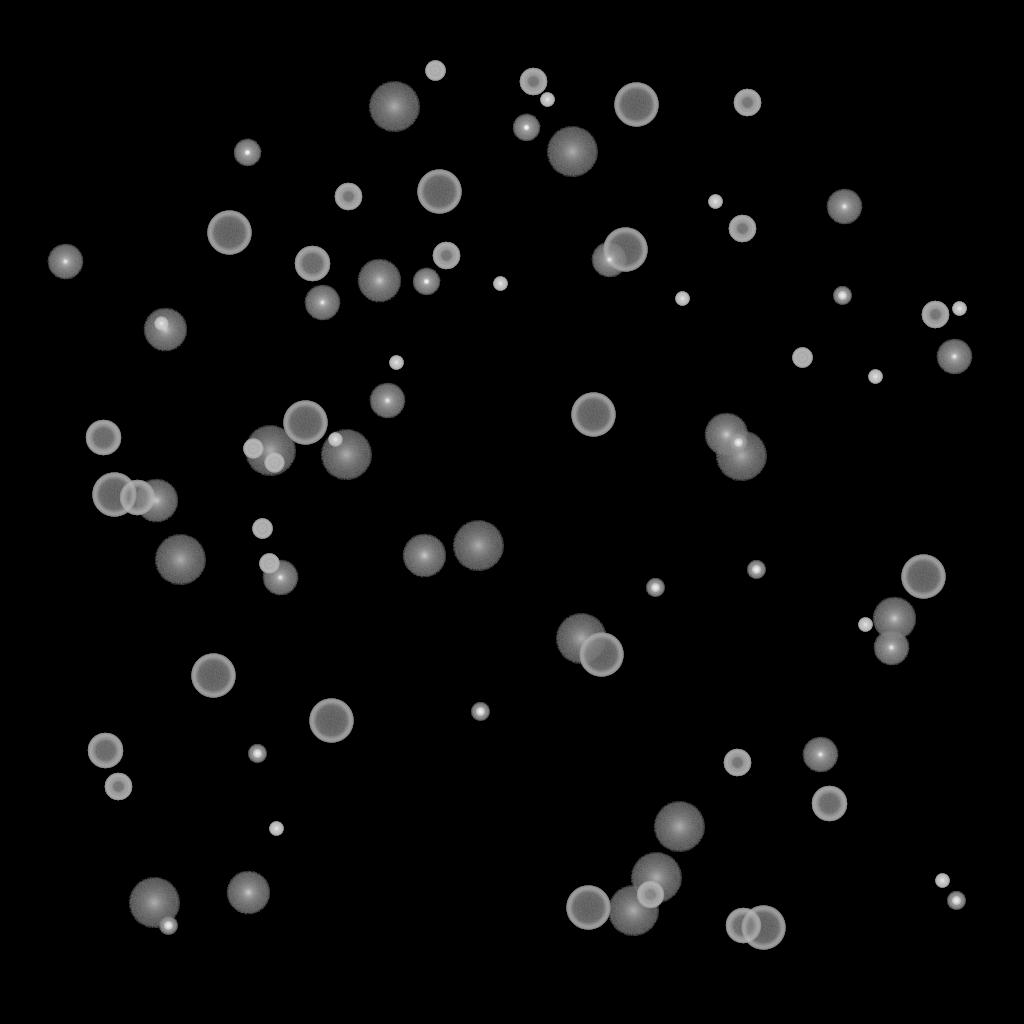depth:-10: (233, 139, 261, 167), (412, 268, 440, 296), (512, 114, 540, 142)
depth:-20: (248, 745, 266, 763), (159, 917, 177, 935), (747, 561, 765, 579), (471, 703, 489, 721), (646, 579, 664, 597), (947, 892, 965, 910), (729, 434, 747, 452), (833, 287, 851, 305)
depth:-30: (708, 195, 722, 209), (952, 302, 966, 316), (493, 277, 507, 291), (868, 370, 882, 384), (540, 93, 554, 107), (858, 618, 872, 632), (269, 822, 283, 836), (389, 356, 403, 370), (675, 292, 689, 306), (328, 433, 342, 447), (154, 317, 168, 331), (935, 874, 949, 888)
depth:-40: (243, 439, 263, 459), (252, 519, 272, 539), (792, 348, 812, 368), (264, 453, 284, 473), (259, 554, 279, 574), (425, 61, 445, 81)
depth:-50: (636, 881, 664, 909), (432, 242, 460, 270), (723, 749, 751, 777), (104, 773, 132, 801), (733, 89, 761, 117), (519, 68, 547, 96), (921, 301, 949, 329), (728, 215, 756, 243), (334, 183, 362, 211)
depth:-60: (811, 786, 847, 822), (87, 733, 123, 769), (119, 480, 155, 516), (85, 420, 121, 456), (725, 908, 761, 944), (294, 246, 330, 282)
depth:-70: (191, 654, 235, 698), (92, 473, 136, 517), (603, 228, 647, 272), (741, 906, 785, 950), (571, 393, 615, 437), (207, 211, 251, 255), (579, 633, 623, 677), (309, 699, 353, 743), (566, 886, 610, 930), (283, 401, 327, 445), (901, 555, 945, 599), (614, 83, 658, 127), (417, 170, 461, 214)
depth:0: (802, 737, 838, 773), (936, 339, 972, 375), (262, 560, 298, 596), (369, 383, 405, 419), (873, 630, 909, 666), (591, 242, 627, 278), (47, 244, 83, 280), (826, 189, 862, 225), (304, 285, 340, 321)
depth:10: (134, 479, 178, 523), (872, 597, 916, 641), (226, 871, 270, 915), (143, 308, 187, 352), (357, 259, 401, 303), (704, 413, 748, 457), (402, 534, 446, 578)
depth:20: (244, 426, 296, 476), (630, 853, 682, 903), (546, 127, 598, 177), (154, 535, 206, 585), (128, 878, 180, 928), (607, 886, 659, 936), (368, 82, 420, 132), (555, 614, 607, 664), (320, 430, 372, 480), (715, 431, 767, 481), (653, 802, 705, 852), (452, 521, 504, 571)
